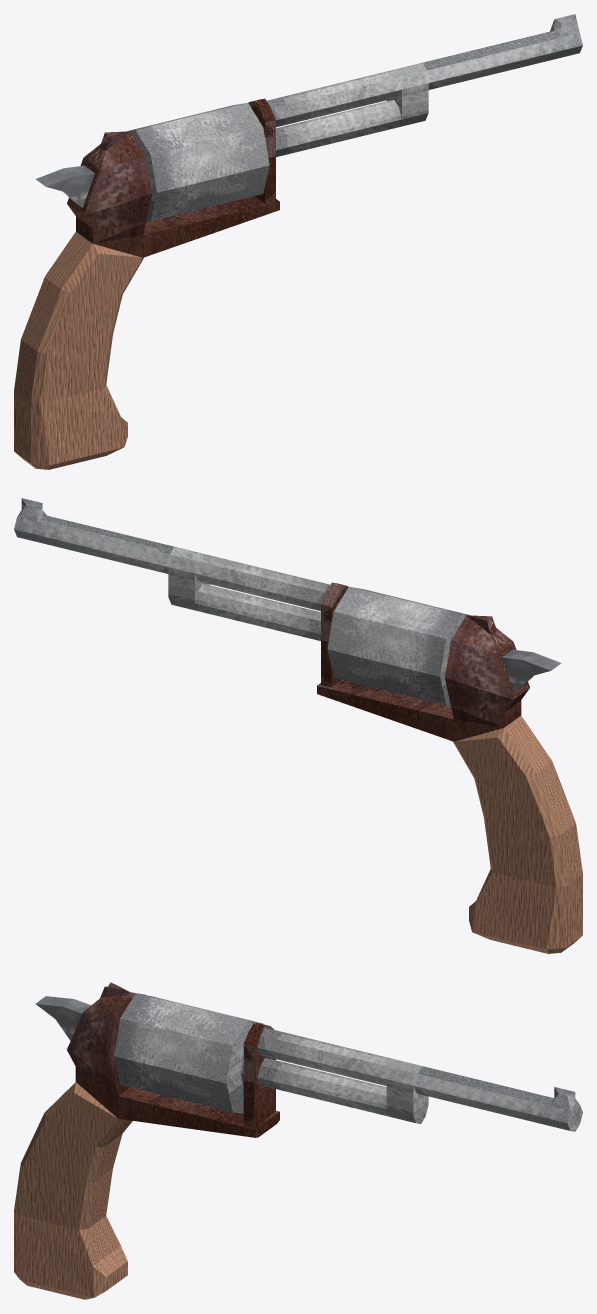
The model's file is pistol_old.fbx.
3 renders of one model, top to bottom at view 1: azimuth 30°, elevation 25°; view 2: azimuth 150°, elevation 25°; view 3: azimuth 330°, elevation 25°, orthographic.
Visible parts, largest first — view 1: gun_model; view 2: gun_model; view 3: gun_model.
Boxes of the visible parts, x1,y1,x2,y2 form: gun_model: [14, 14, 582, 469]; gun_model: [14, 498, 582, 953]; gun_model: [14, 982, 582, 1299].
Bounding box in the file's own units: 20.73 × 11.35 × 2.8.
3 materials, 3 textured.
